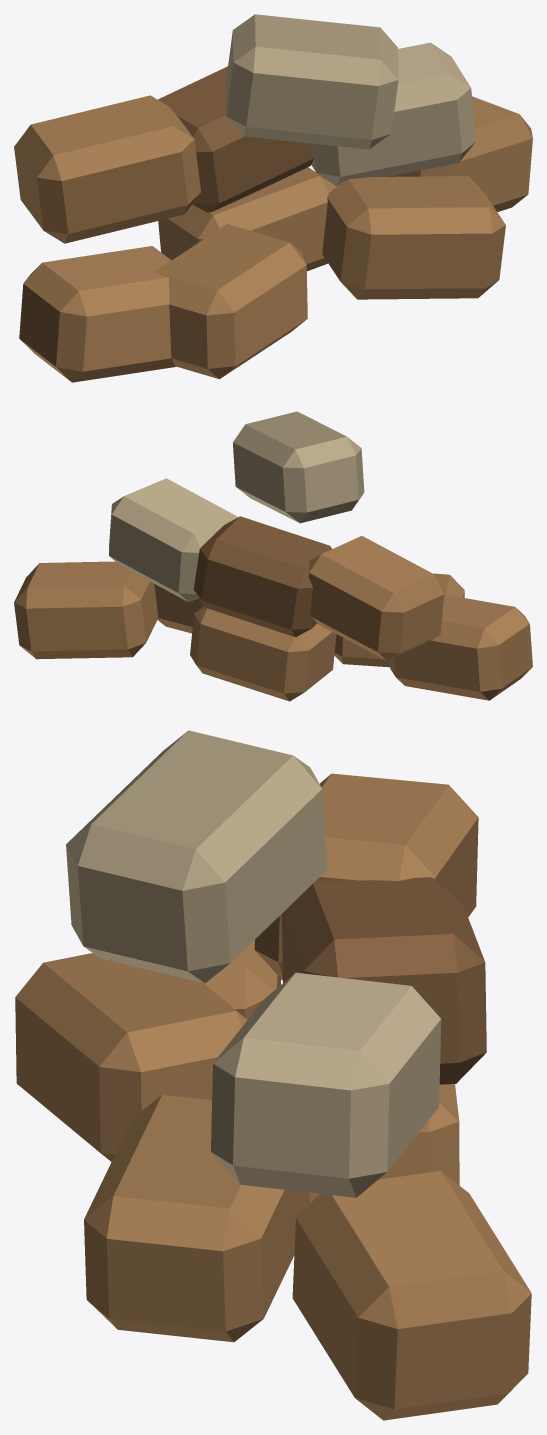
File: food_bread_suhari_idle.glb
The picture shows the model from 3 angles, top to bottom: view 1: azimuth 30°, elevation 25°; view 2: azimuth 150°, elevation 25°; view 3: azimuth 270°, elevation 25°; orthographic projection. The views are drawn at different scales.
Parts seen in each view (by area): view 1: food_bread_suhari_idle; view 2: food_bread_suhari_idle; view 3: food_bread_suhari_idle.
Boxes of the visible parts, x1,y1,x2,y2 form: food_bread_suhari_idle: (14, 14, 532, 382); food_bread_suhari_idle: (14, 411, 532, 701); food_bread_suhari_idle: (15, 730, 531, 1420).
Bounding box in the file's own units: 0.1945 × 0.0942 × 0.0989.
1 material, 1 textured.
